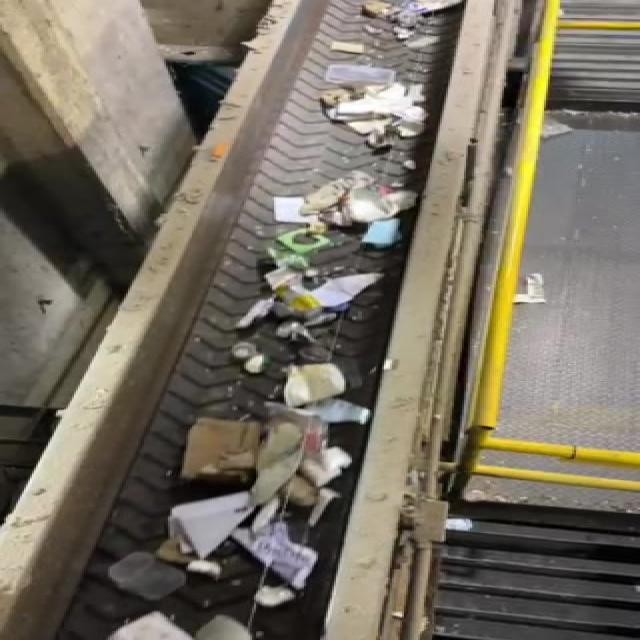paper: (169, 490, 261, 572), (188, 418, 273, 485)
pp: (99, 550, 198, 610)
